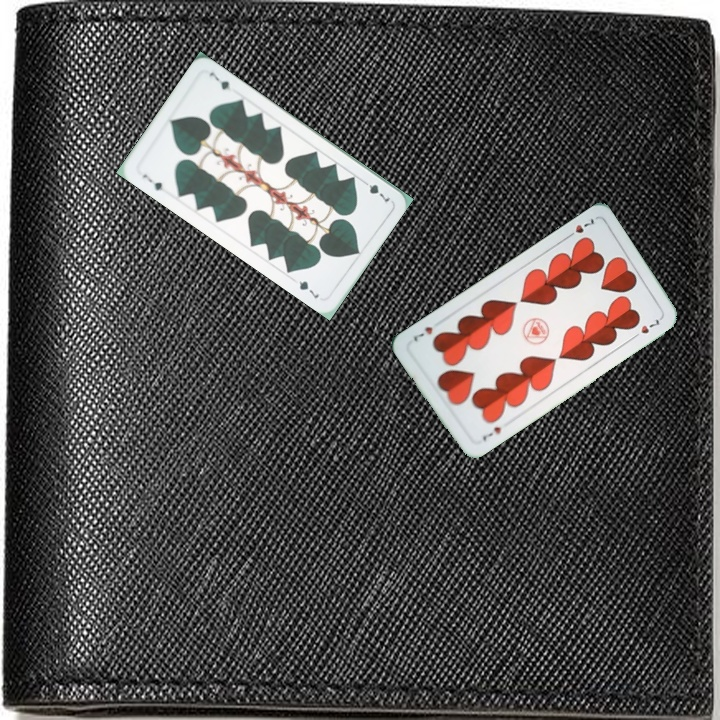G7: (357, 176, 393, 207), (138, 170, 166, 193)
H7: (562, 214, 597, 241), (478, 422, 504, 443)
